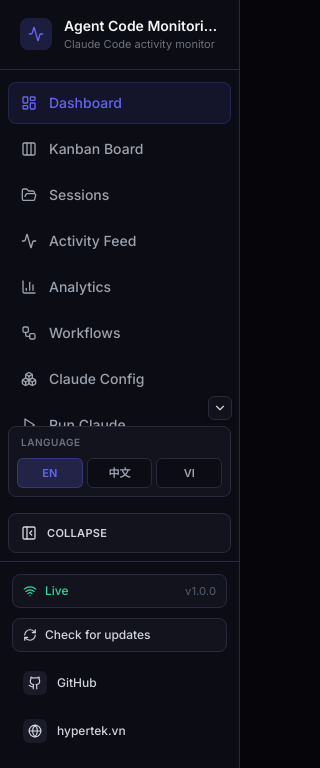
Test case: Sidebar › should switch to Vietnamese when Vietnamese option is clicked
The width and height of the screenshot is (320, 768).
Step 1. Click the button with aria-label "Vietnamese" → [189, 473], box [156,458,222,488]
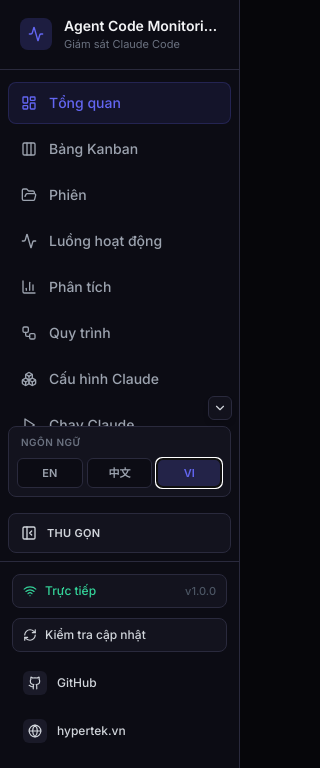
expect the text "Tổng quan" is shown: met, box [49,92,121,112]
expect the text "Bảng Kanban" is shown: met, box [49,138,138,158]
